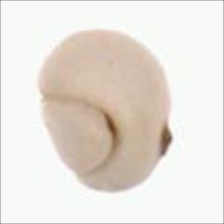L5: (39, 89, 124, 177), (155, 103, 173, 167)
L6: (35, 26, 173, 194)
